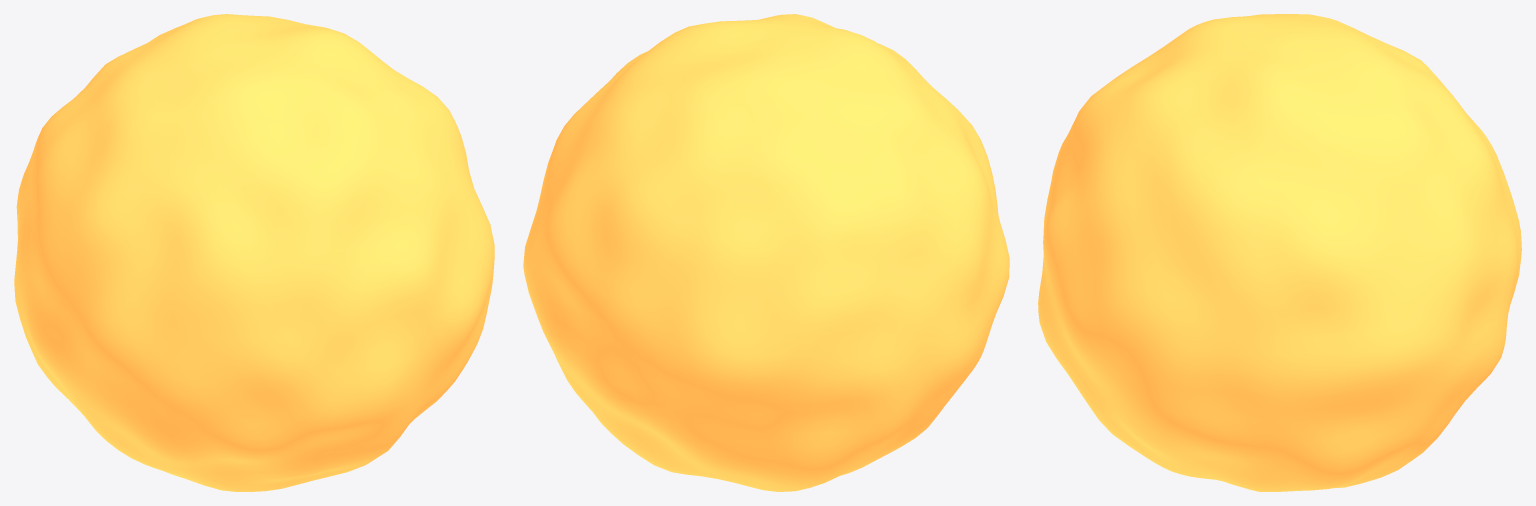
File: planet-lava.glb
3 views of the same model, side by side, from view 1: azimuth 30°, elevation 25°; view 2: azimuth 150°, elevation 25°; view 3: azimuth 270°, elevation 25° (orthographic).
Visible parts, largest first — view 1: Planet_Lava; view 2: Planet_Lava; view 3: Planet_Lava.
Boxes of the visible parts, x1,y1,x2,y2 form: Planet_Lava: [14, 14, 494, 491]; Planet_Lava: [523, 14, 1009, 491]; Planet_Lava: [1038, 14, 1521, 491].
Bounding box in the file's own units: 1.99 × 2 × 2.01.
